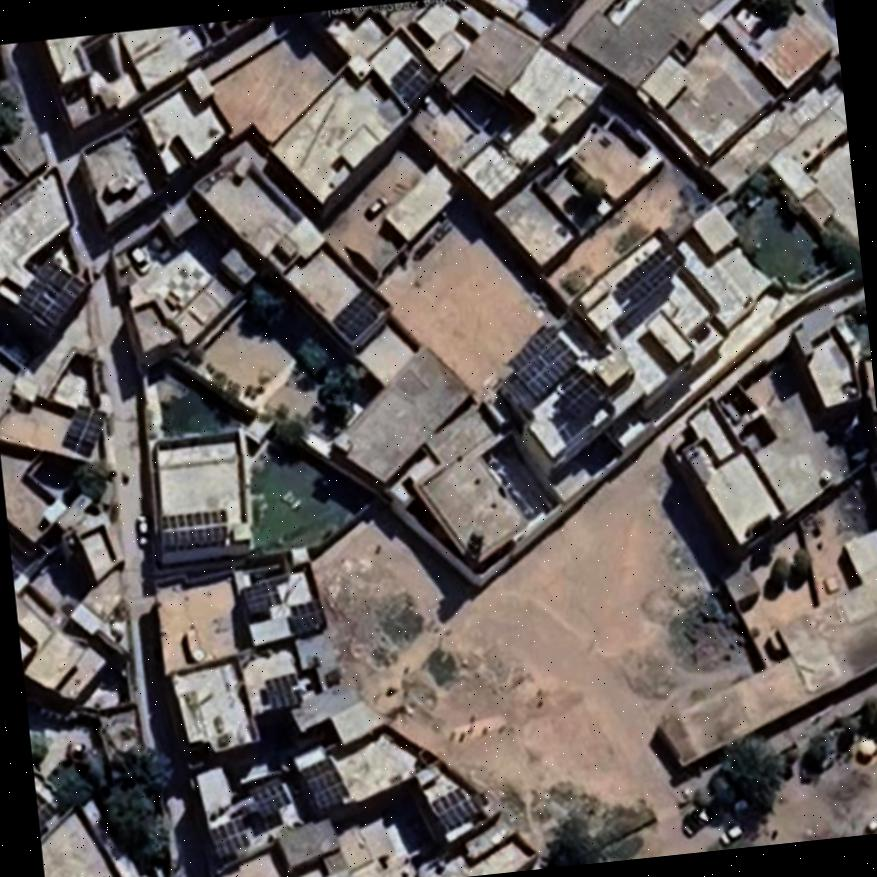Solarpanel: (506, 328, 577, 396), (18, 256, 86, 322), (616, 247, 679, 303), (334, 287, 387, 340), (299, 757, 348, 807), (389, 58, 436, 100), (429, 787, 475, 829), (208, 820, 250, 859), (65, 406, 107, 444), (287, 597, 323, 637), (245, 782, 288, 815), (162, 525, 227, 545), (267, 674, 301, 709), (243, 582, 282, 611)
